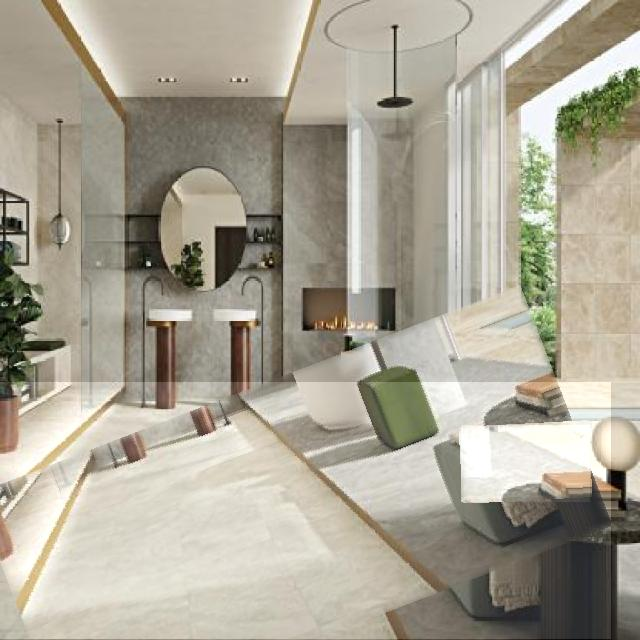floor: (0, 382, 611, 640), (461, 425, 590, 502)
